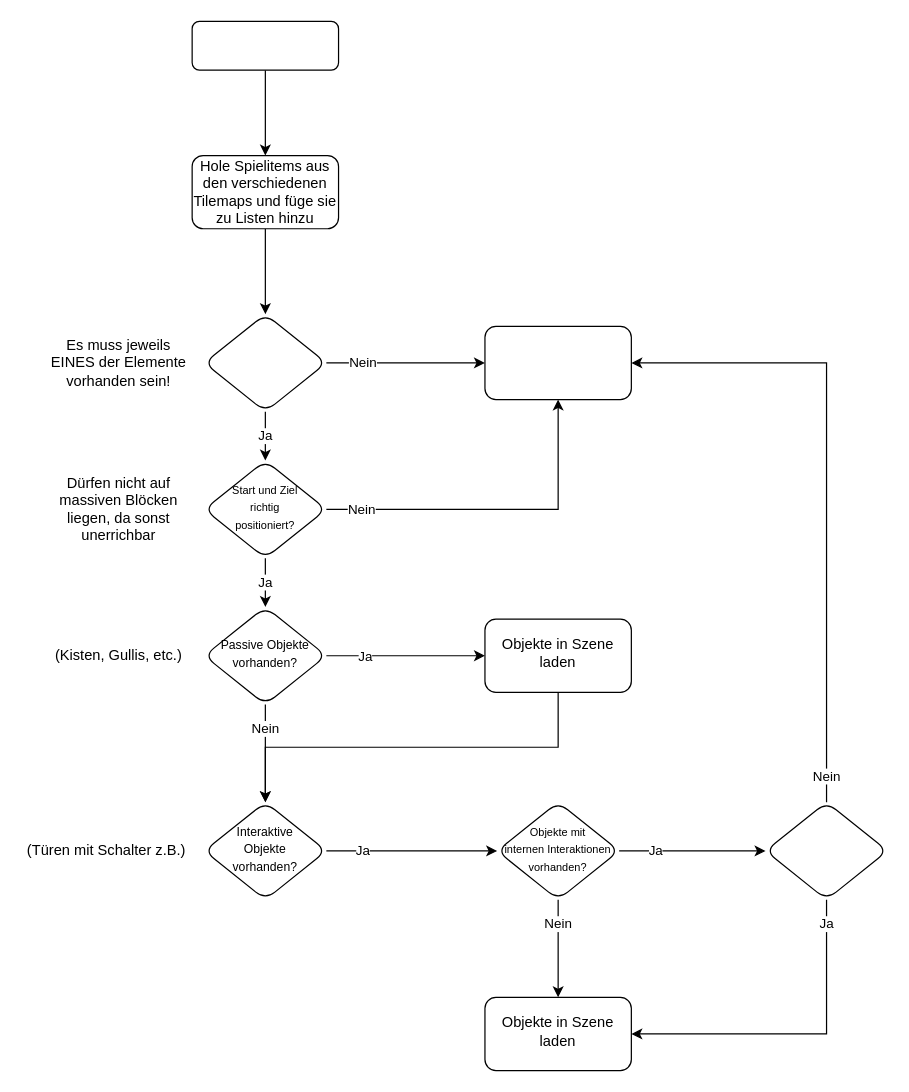
Image size: 909x1092. Some labels were removed from this diagram. Here are the shapes that lost their labels. From the top down, the centre of each, then its label:
At (265,45): "Szene ist fertig geladen".
At (264,362): "Start und Ziel vorhanden?".
At (557,362): "Fehler ausgeben".
At (826,850): "Richtige Anzahl an Objekten vorhanden?".
